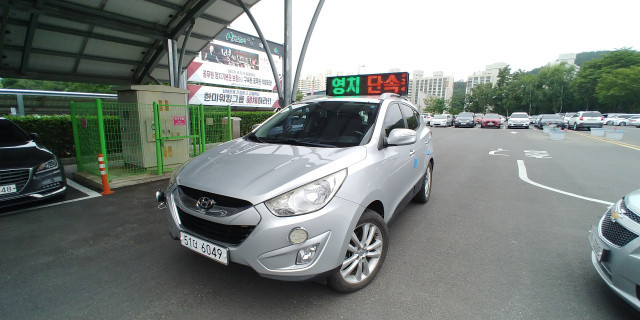car: (175, 231, 230, 268)
